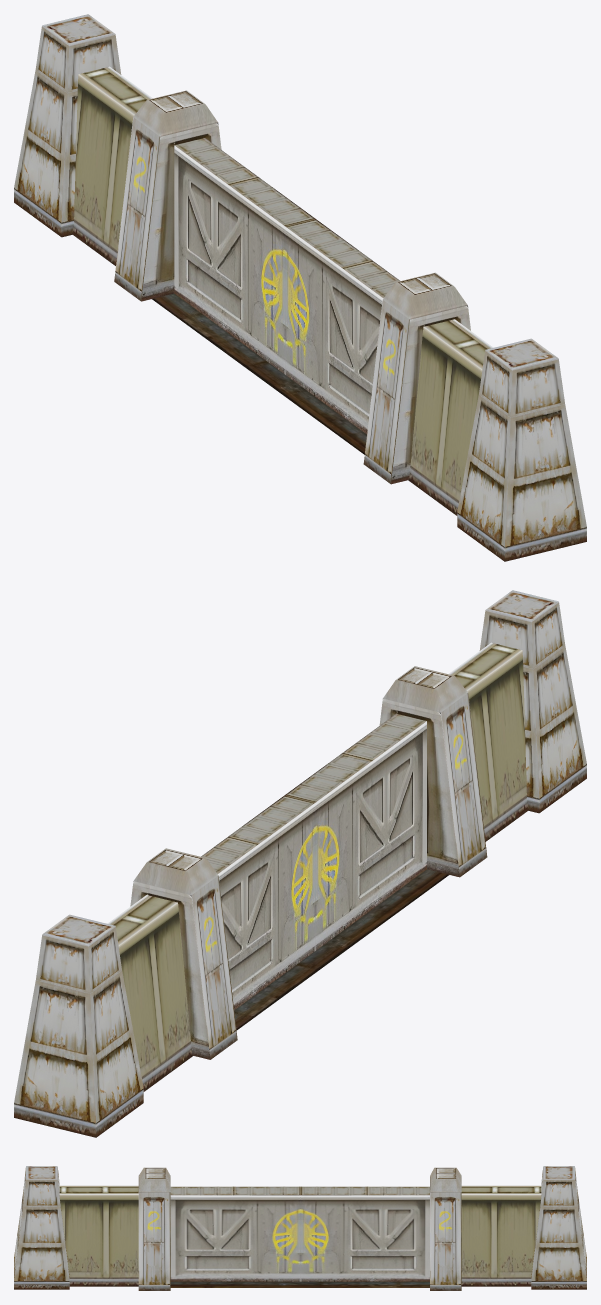
File: d_mediumgate_hdtex.glb
The picture shows the model from 3 angles, top to bottom: view 1: azimuth 30°, elevation 25°; view 2: azimuth 150°, elevation 25°; view 3: azimuth 270°, elevation 25°; orthographic projection. The views are drawn at different scales.
Visible parts, largest first — view 1: D_MediumGate, D_MediumGateDoor; view 2: D_MediumGate, D_MediumGateDoor; view 3: D_MediumGate, D_MediumGateDoor.
Boxes of the visible parts, <box> form: D_MediumGate: <box>14,14,586,561</box>; D_MediumGateDoor: <box>174,138,399,434</box>; D_MediumGate: <box>14,590,586,1137</box>; D_MediumGateDoor: <box>201,713,426,1009</box>; D_MediumGate: <box>14,1166,586,1290</box>; D_MediumGateDoor: <box>170,1186,429,1281</box>.
Bounding box in the file's own units: 6.4 × 11.6 × 56.74.
Materials: 2 (2 with a texture image).
